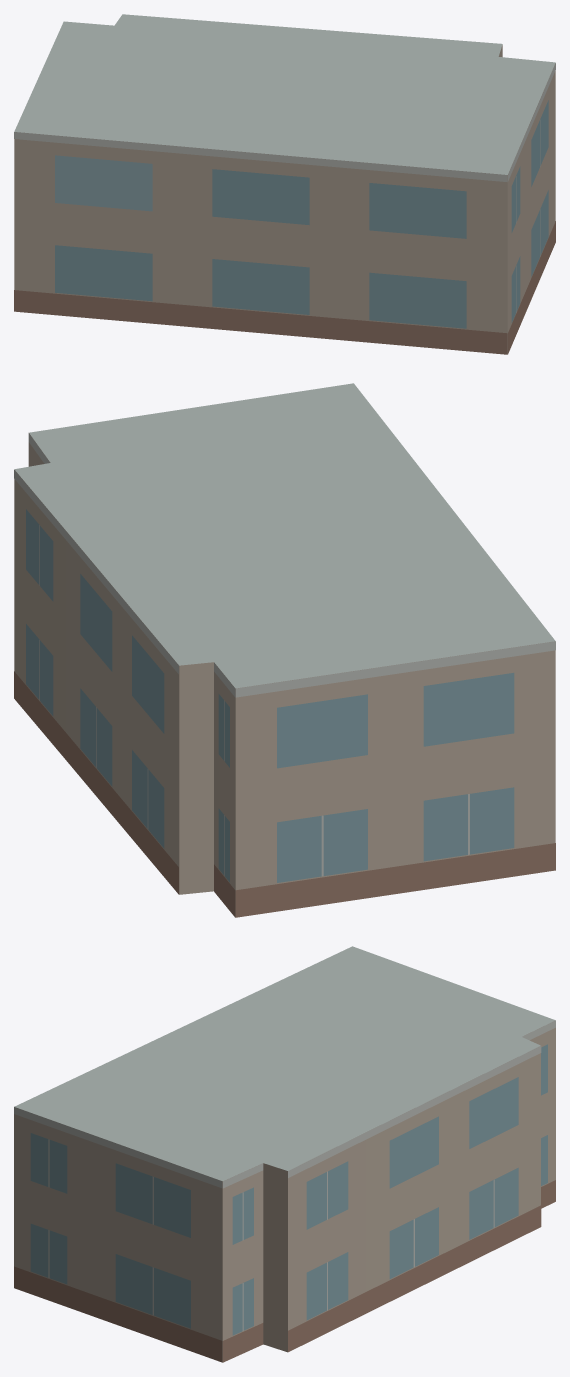
File: survey-upis-32472215.glb
3 renders of one model, top to bottom at view 1: azimuth 30°, elevation 25°; view 2: azimuth 150°, elevation 25°; view 3: azimuth 270°, elevation 25°, orthographic. The views are drawn at different scales.
Visible parts, largest first — view 1: survey-upis-32472215.tmp; view 2: survey-upis-32472215.tmp; view 3: survey-upis-32472215.tmp.
Part boxes in pixels (x1,y1,x2,y2): survey-upis-32472215.tmp: (14,14,555,354); survey-upis-32472215.tmp: (14,383,555,917); survey-upis-32472215.tmp: (14,946,555,1362).
Size of the model in its own units: 16.97 by 6.1 by 16.52.
